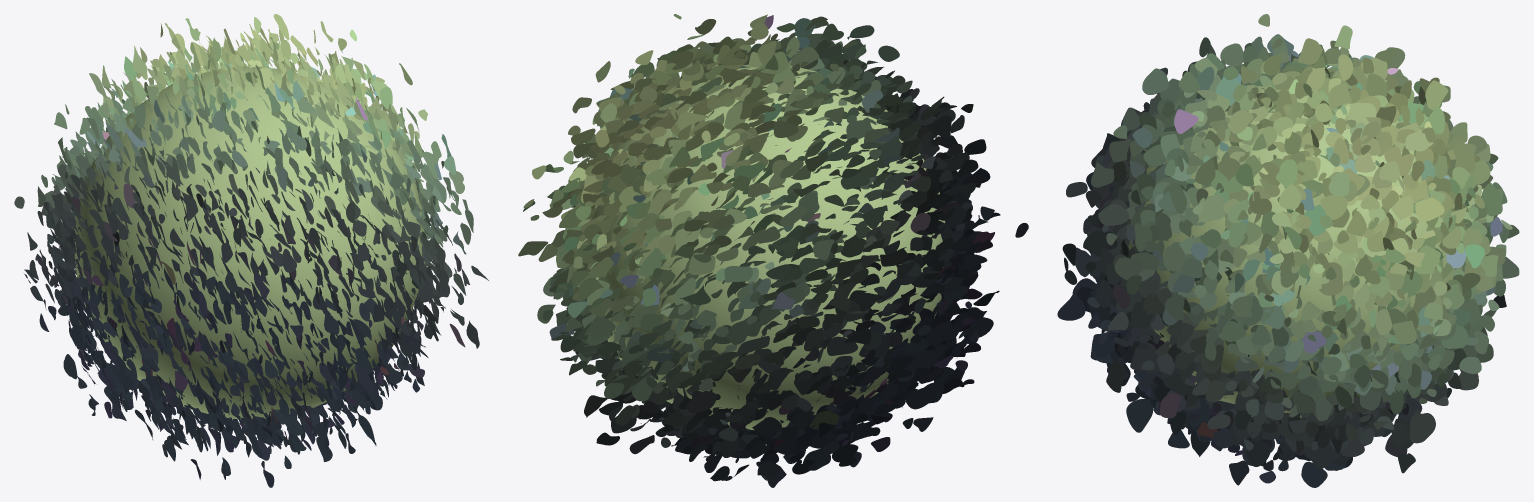
The model's file is leaf-cluster.glb.
3 renders of one model, left to right at view 1: azimuth 30°, elevation 25°; view 2: azimuth 150°, elevation 25°; view 3: azimuth 270°, elevation 25°, orthographic. The views are drawn at different scales.
Visible parts, largest first — view 1: Leaf cluster; view 2: Leaf cluster; view 3: Leaf cluster.
Boxes of the visible parts, left/top/right/bottom form: Leaf cluster: left=14, top=14, right=488, bottom=487; Leaf cluster: left=518, top=14, right=1028, bottom=487; Leaf cluster: left=1057, top=14, right=1519, bottom=487.
Size of the model in its own units: 7.55 by 7.91 by 7.77.
